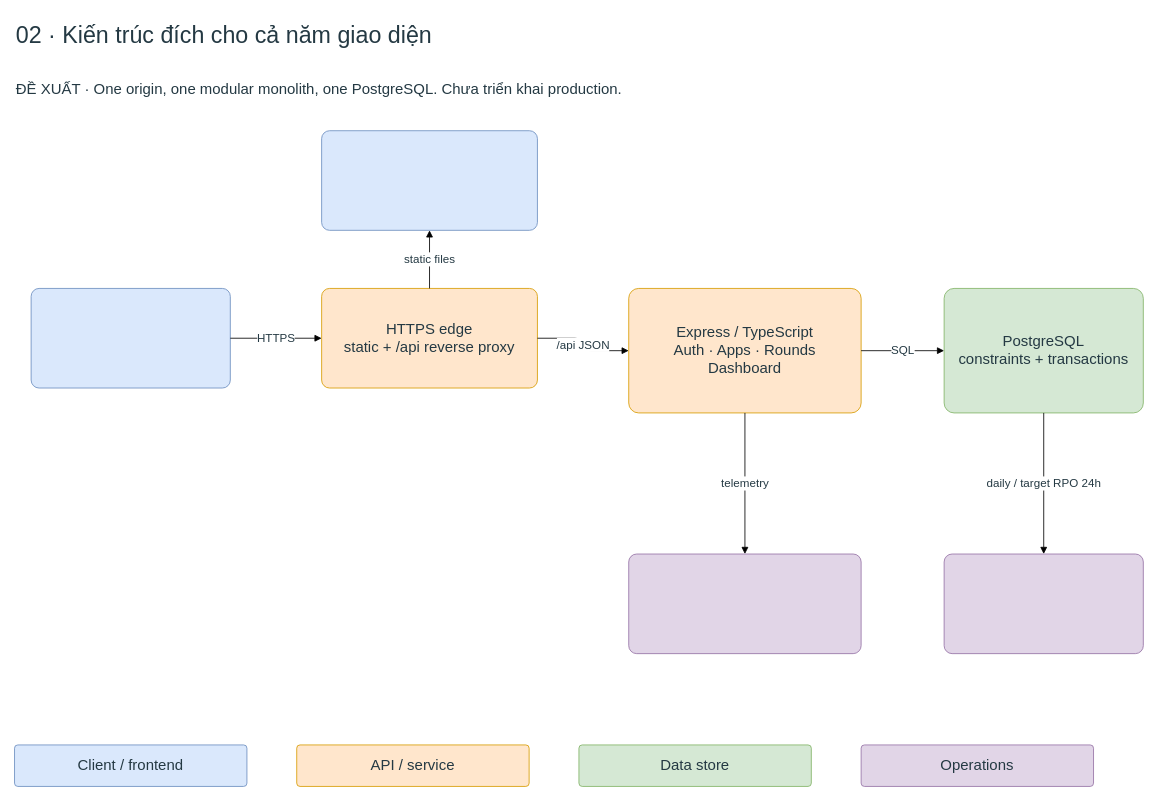
Some shapes in this 1158 by 801 pixel diagram are drawn without their labels. The shapes that lost their labels are listed below. From the top down, each one's centre as x and y in pixels, then its label:
At (x=429, y=180): "Vite static artifacts hashed assets".
At (x=130, y=338): "Browser 5 UI / cùng cookie".
At (x=744, y=603): "Logs / metrics / health redacted, requestId".
At (x=1043, y=603): "Encrypted backups restore drills".
